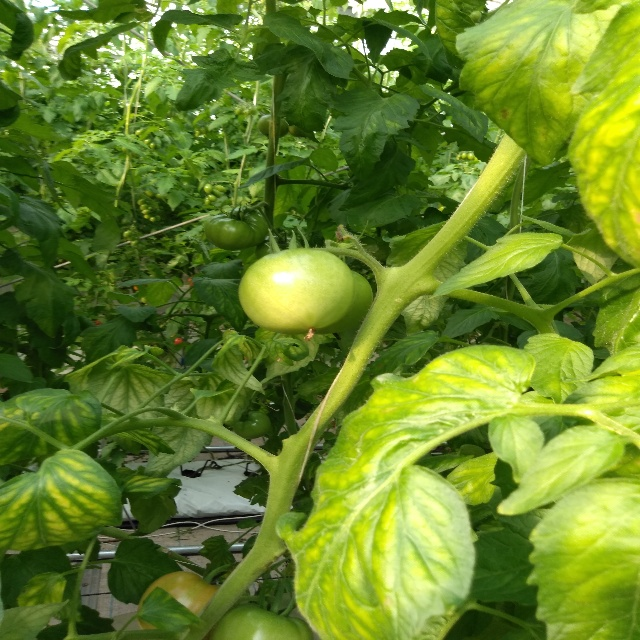b_green: (239, 247, 354, 334), (207, 601, 315, 640), (309, 270, 373, 335), (203, 206, 268, 251), (255, 235, 303, 260), (234, 410, 271, 440), (258, 114, 291, 138)
b_half_ripened: (137, 571, 220, 629)
